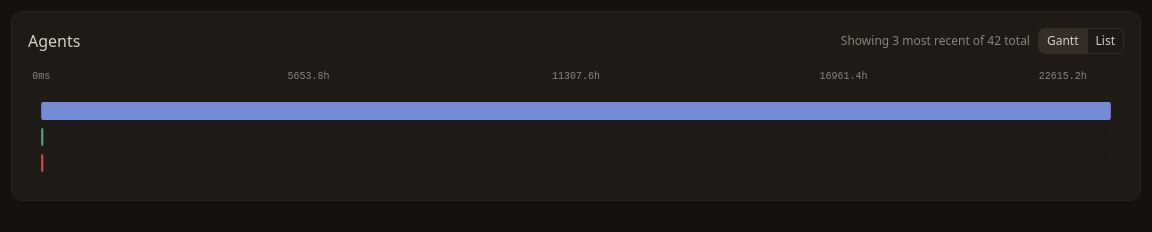
Test case: AgentsTab: view toggle + list view › Gantt is the default view; toggling reveals the table
Expected: the element showing "0ms 5653.8h 11307.6h 16961.4h 22615.2h" is shown, x1=28 y1=70 x2=1124 y2=184
Step 1. Click the button "List" → (1105, 41), box x1=1086 y1=29 x2=1123 y2=53
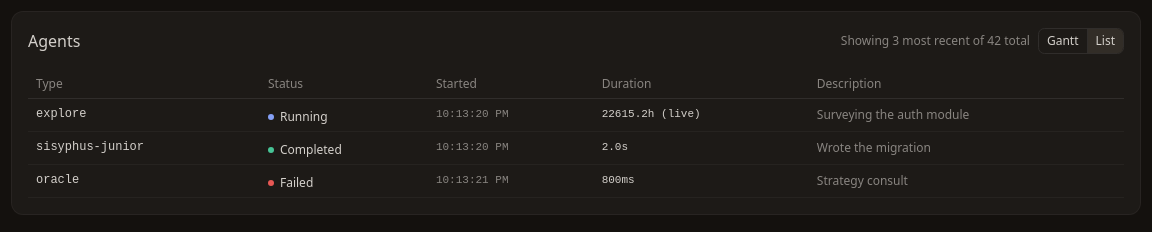
Result: the element that starts with "Type" is shown at x1=28 y1=70 x2=1124 y2=198
Result: the number of rows is 4 at x1=28 y1=70 x2=1124 y2=98; x1=28 y1=98 x2=1124 y2=132; x1=28 y1=132 x2=1124 y2=164; x1=28 y1=164 x2=1124 y2=198
Result: the text "explore" is shown at x1=28 y1=98 x2=260 y2=132
